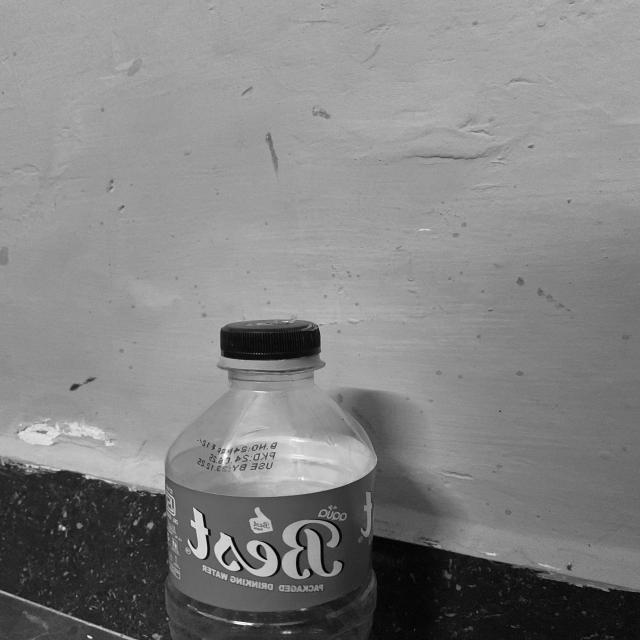Good-cap-Df0S: (210, 318, 326, 370)
